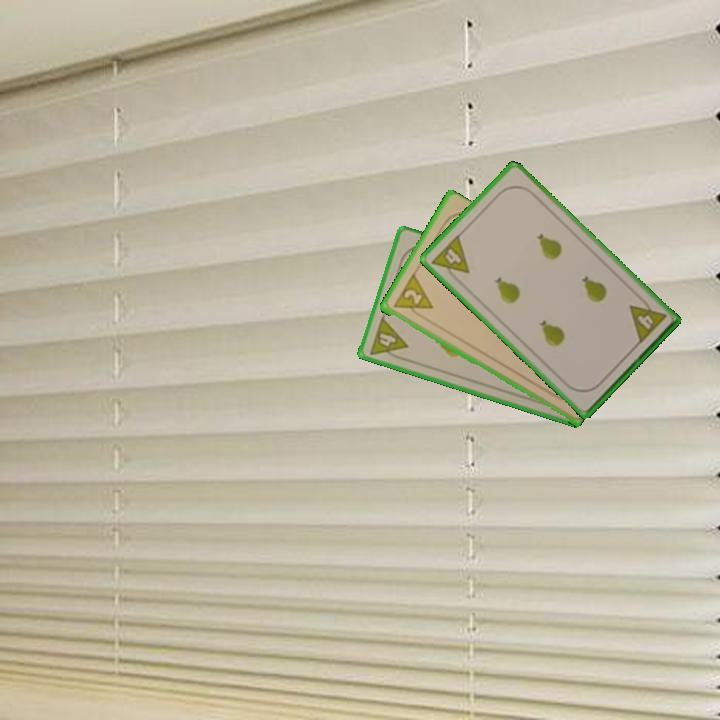2p: (390, 272, 435, 321)
4p: (427, 231, 472, 286), (625, 293, 669, 347), (366, 314, 411, 364)
